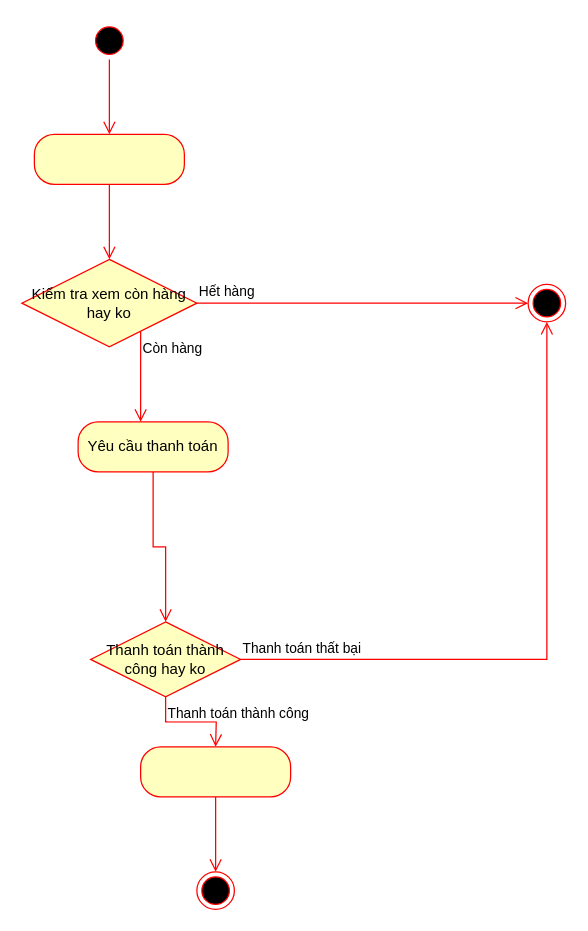
The diagram is 588 pixels wide and 931 high, and some of its shapes have lost their labels. Each missing label, with the box of its shape:
Trả về thông tin đơn hàng và xác nhận đặt hàng: (139, 746, 291, 797)
Đặt hàng: (33, 133, 184, 184)
